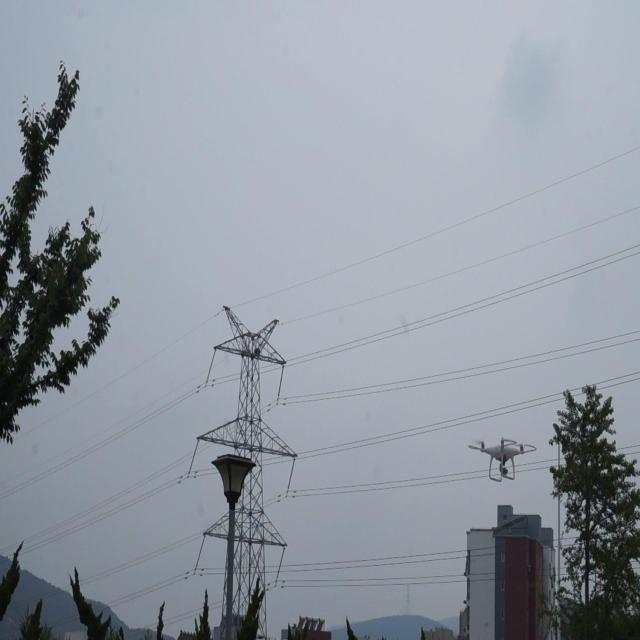drone: (468, 433, 538, 480)
